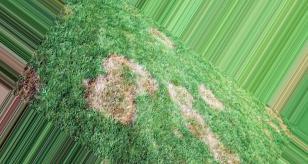patch: (103, 82, 120, 110), (204, 136, 217, 151), (172, 86, 183, 99), (136, 75, 147, 87), (114, 64, 127, 74)
